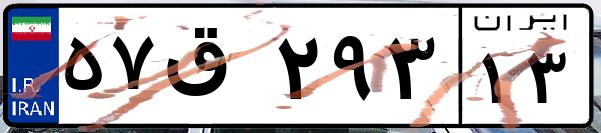1: (475, 38, 525, 113)
2: (270, 28, 330, 110)
3: (385, 28, 445, 110), (525, 38, 570, 115)
5: (57, 26, 110, 100)
7: (110, 28, 158, 98)
9: (330, 28, 385, 110)
ق: (158, 20, 270, 120)
